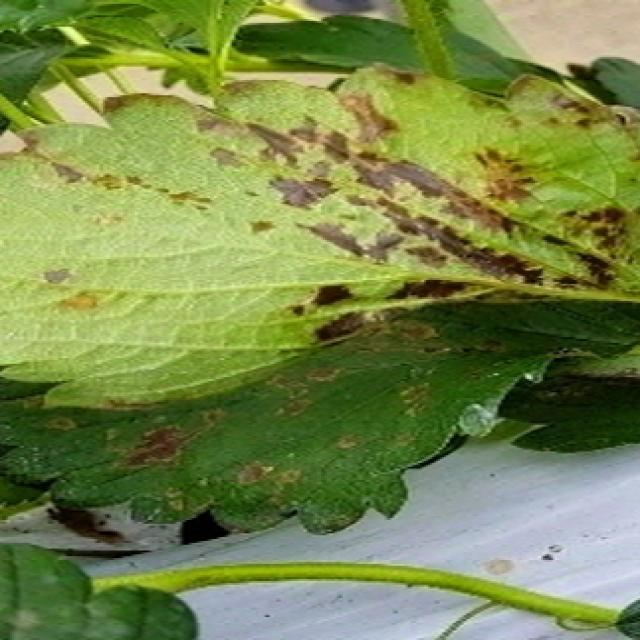Angular Leafspot: (0, 61, 640, 411), (0, 301, 640, 535)
